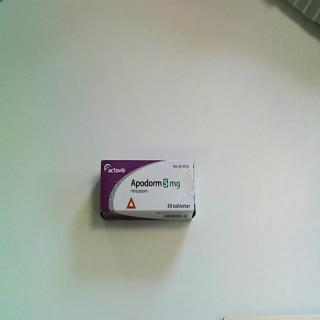apodonorm5mg: (99, 157, 197, 224)
